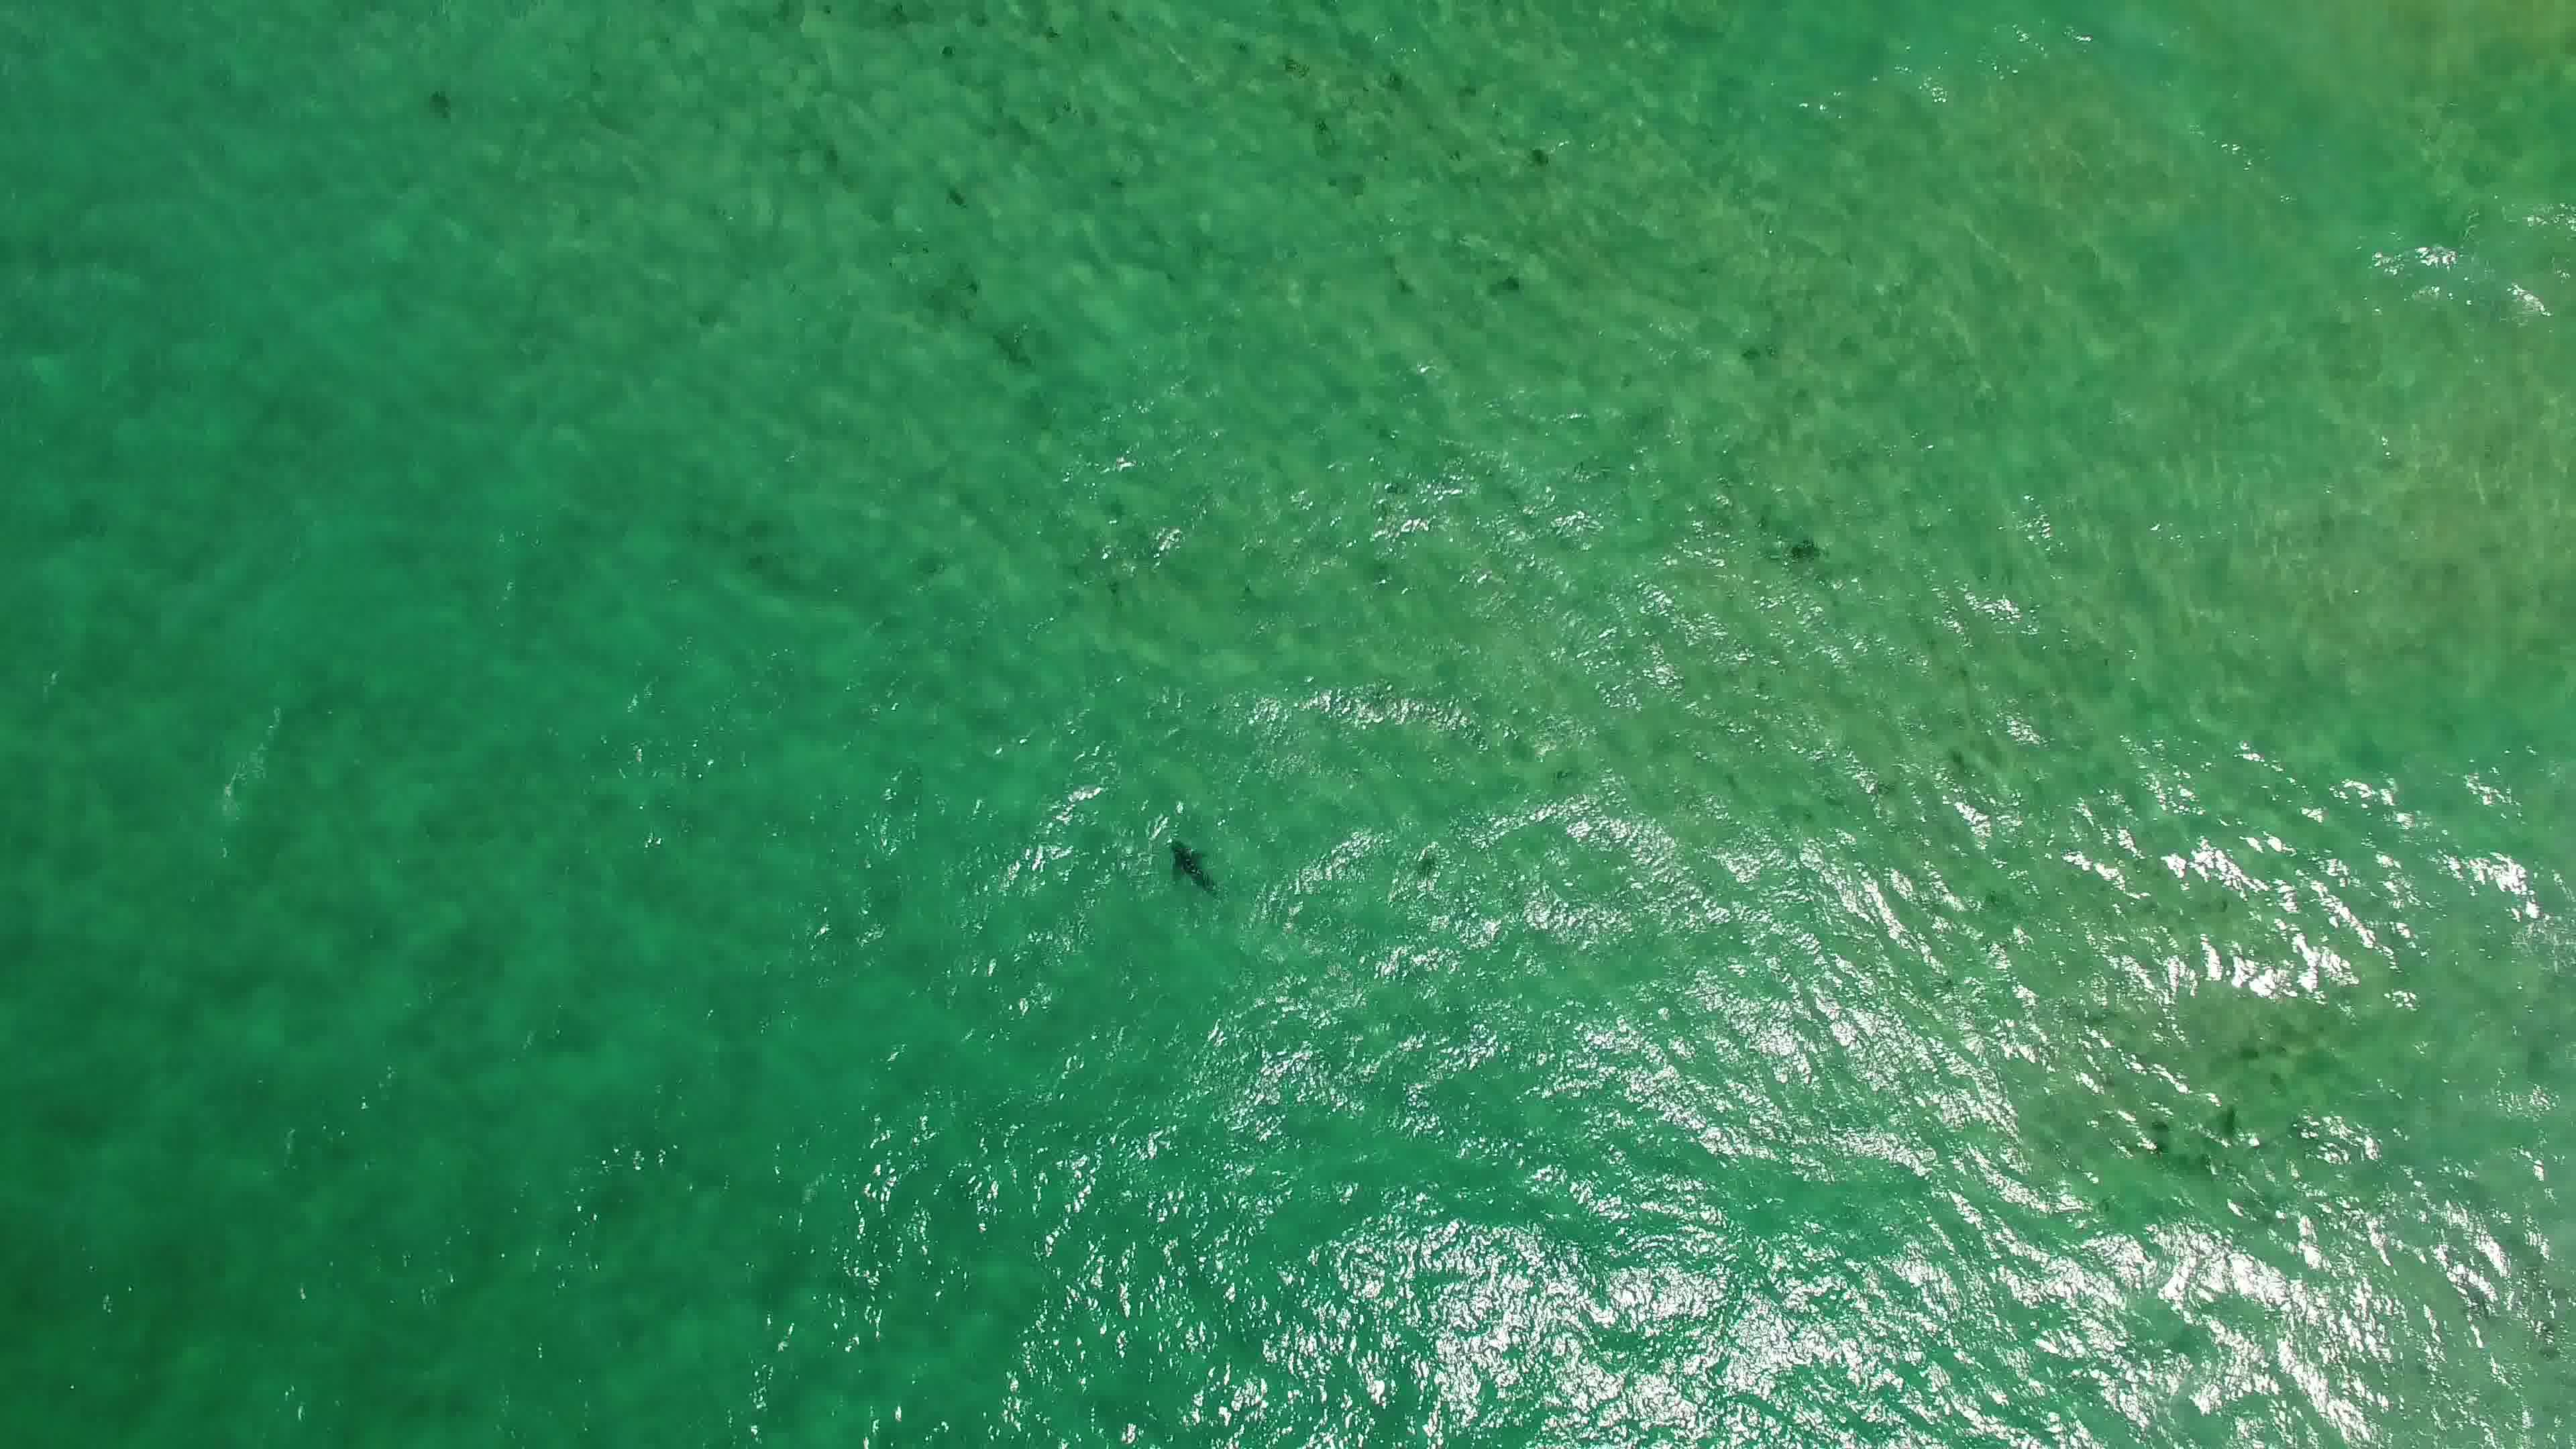shark: (1166, 837, 1226, 906)
